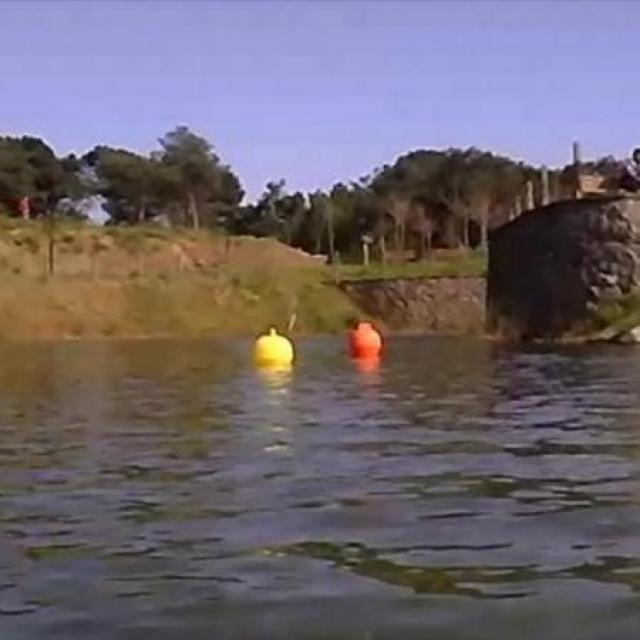buoy: (252, 328, 292, 365), (347, 322, 384, 355)
